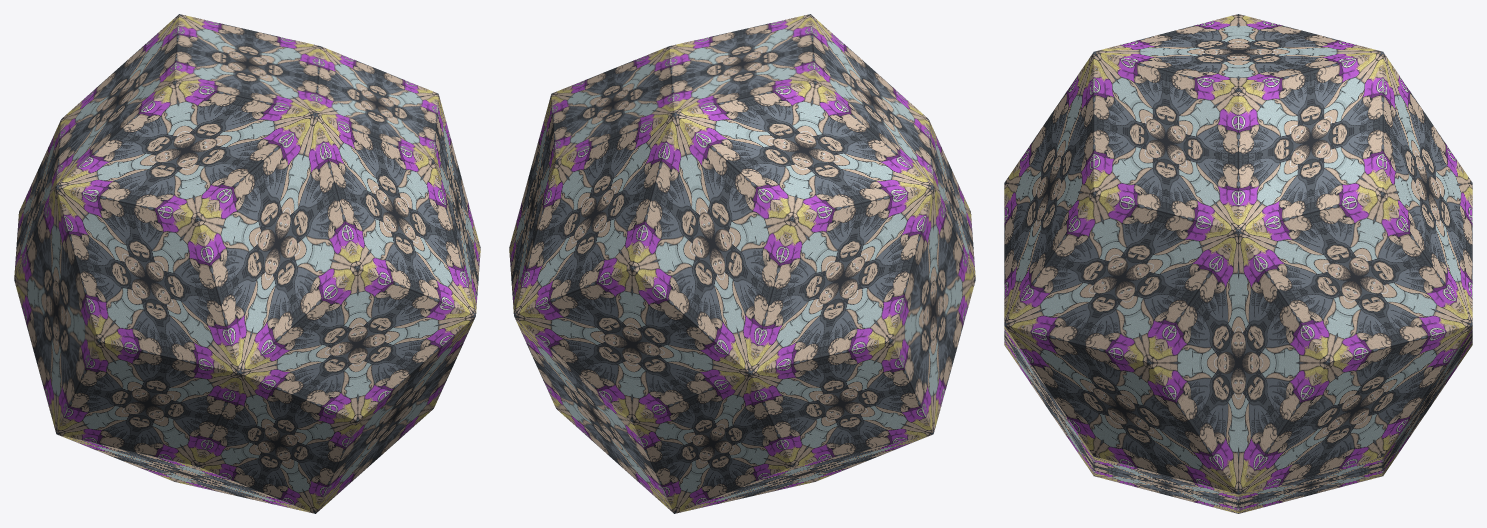
File: RhombicTriacontahedron25.obj
3 views of the same model, side by side, from view 1: azimuth 30°, elevation 25°; view 2: azimuth 150°, elevation 25°; view 3: azimuth 270°, elevation 25° (orthographic). The views are drawn at different scales.
Size of the model in its own units: 2.93 by 2.93 by 2.93.
Materials: 1 (1 with a texture image).
